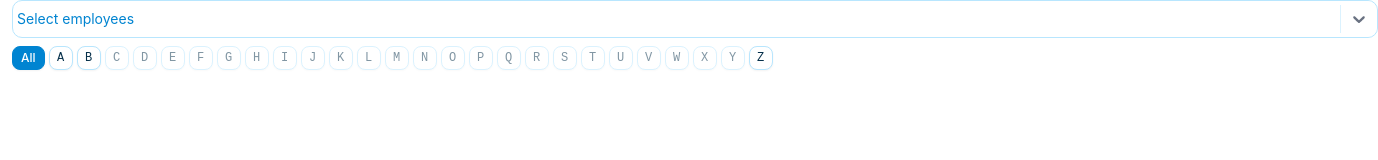
Scenario: FilterableMultiSelect › narrows the options to the chosen letter
The width and height of the screenshot is (1378, 160).
Click the button "B". click: (89, 58)
box: [77, 46, 101, 70]
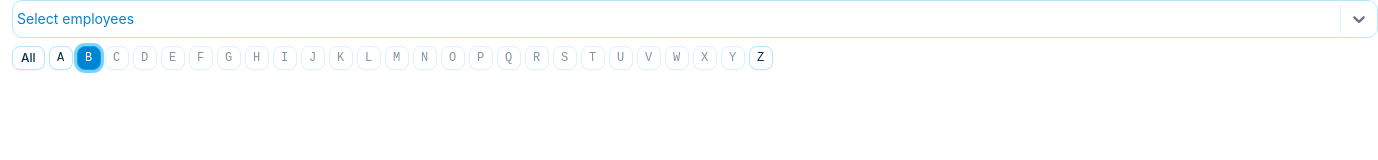
Click the dropdown. click: (19, 19)
box: [17, 9, 21, 29]
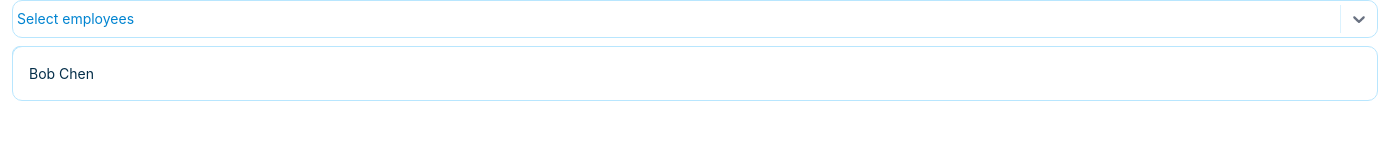
Check: the option "Bob Chen" is shown, box [21, 55, 1369, 92]
